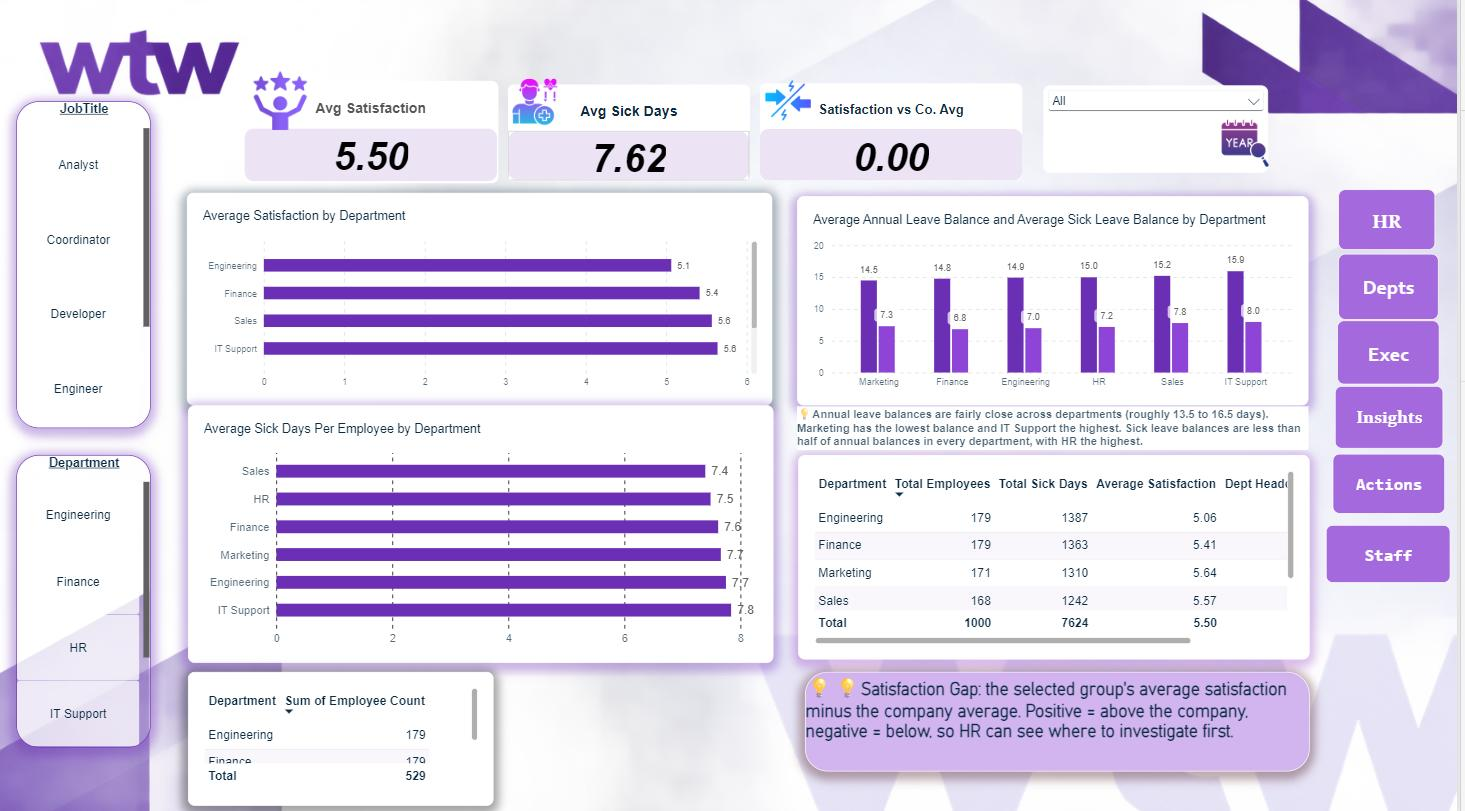

The page's visual inventory and layout, read from the dashboard file:
{"tool":"powerbi","page":{"name":"Department Analysis","canvas":[1920,1080],"ordinal":2},"visuals":[{"type":"slicer","fields":{"Values":["DimDate.Date.Variation.Date Hierarchy.Year"]},"box":[1375.3,119.5,296,114.7],"z":0,"group":"g2"},{"type":"advancedSlicerVisual","fields":{"Values":["Employees.JobTitle"]},"box":[25,140,176.7,430],"z":0},{"type":"shape","box":[1763.2,340.6,131.4,87.1],"z":0,"group":"g1"},{"type":"cardVisual","title":"\tAvg Satisfaction","fields":{"Data":["Satisfaction.Average Satisfaction"]},"box":[323.3,113.6,335.3,134.3],"z":1000,"group":"g2"},{"type":"shape","box":[1759.7,514.1,142.7,82],"z":1000,"group":"g1"},{"type":"advancedSlicerVisual","fields":{"Values":["Employees.Department"]},"box":[25.7,604.3,176.7,385],"z":1000},{"type":"cardVisual","title":"Avg Sick Days","fields":{"Data":["SickLeaves.Average Sick Days Per Employee"]},"box":[671,117.2,318.6,127.1],"z":2000,"group":"g2"},{"type":"shape","box":[1763.8,255.7,127.1,80],"z":2000,"group":"g1"},{"type":"barChart","fields":{"Category":["Employees.Department"],"Y":["Satisfaction.Average Satisfaction"]},"box":[250,260,770,280],"z":2000},{"type":"cardVisual","title":"\tSatisfaction vs Co. Avg","fields":{"Data":["Employees.Satisfaction vs Company Avg"]},"box":[1001.9,116.5,345.5,128.6],"z":3000,"group":"g2"},{"type":"shape","box":[1762.4,428.6,134.3,84.3],"z":3000,"group":"g1"},{"type":"textbox","box":[1062.9,890,663.5,130.6],"z":3000},{"type":"image","box":[954,85,172,108],"z":4000,"group":"g2"},{"type":"barChart","fields":{"Category":["Employees.Department"],"Y":["SickLeaves.Average Sick Days Per Employee"]},"box":[251.4,540,770,338.8],"z":4000},{"type":"shape","box":[1756.4,603.7,147.6,79],"z":4000,"group":"g1"},{"type":"image","box":[1547.3,140.9,185.3,109.3],"z":5000,"group":"g2"},{"type":"tableEx","fields":{"Values":["Employees.Department","Employees.Total Employees","SickLeaves.Total Sick Days","Satisfaction.Average Satisfaction","Employees.Dept Headcount Rank Selected"]},"box":[1052.9,604.3,672.7,268.8],"z":5000},{"type":"shape","box":[1747.1,696.4,164,75.9],"z":5000,"group":"g1"},{"type":"lineClusteredColumnComboChart","fields":{"Category":["Employees.Department"],"Y":["Balances.Average Annual Leave Balance","Balances.Average Sick Leave Balance"]},"box":[1052.3,264.2,672.7,274.8],"z":6000},{"type":"textbox","box":[1052.3,540.6,672.7,57.7],"z":7000},{"type":"tableEx","fields":{"Values":["Top 3 Departments.Department","Sum(Top 3 Departments.Employee Count)"]},"box":[251.4,890,401.4,175.7],"z":8000},{"type":"group","id":"g1","title":"Group 1","box":[1747.1,255.7,164.3,517.1],"z":9000},{"type":"group","id":"g2","title":"Group 2","box":[323.3,85,1408.3,165],"z":10000},{"type":"image","box":[583.3,85,247.2,111.2],"z":11000},{"type":"image","box":[201.7,80,341.4,117.1],"z":12000}]}

Visuals, with their boxes in screenshot pixels (x1, y1, x2, y2), scaled from the page's 1920x1080 canvas onto the 1465x811 screenshot:
slicer - DimDate.Date.Variation.Date Hierarchy.Year: <region>1049, 90, 1275, 176</region>
advancedSlicerVisual - Employees.JobTitle: <region>19, 105, 154, 428</region>
shape: <region>1345, 256, 1446, 321</region>
"	Avg Satisfaction" cardVisual: <region>247, 85, 503, 186</region>
shape: <region>1343, 386, 1452, 448</region>
advancedSlicerVisual - Employees.Department: <region>20, 454, 154, 743</region>
"Avg Sick Days" cardVisual: <region>512, 88, 755, 183</region>
shape: <region>1346, 192, 1443, 252</region>
barChart - Employees.Department x Satisfaction.Average Satisfaction: <region>191, 195, 778, 406</region>
"	Satisfaction vs Co. Avg" cardVisual: <region>764, 87, 1028, 184</region>
shape: <region>1345, 322, 1447, 385</region>
textbox: <region>811, 668, 1317, 766</region>
image: <region>728, 64, 859, 145</region>
barChart - Employees.Department x SickLeaves.Average Sick Days Per Employee: <region>192, 406, 779, 660</region>
shape: <region>1340, 453, 1453, 513</region>
image: <region>1181, 106, 1322, 188</region>
tableEx - Employees.Department x Employees.Total Employees: <region>803, 454, 1317, 656</region>
shape: <region>1333, 523, 1458, 580</region>
lineClusteredColumnComboChart - Employees.Department x Balances.Average Annual Leave Balance: <region>803, 198, 1316, 405</region>
textbox: <region>803, 406, 1316, 449</region>
tableEx - Top 3 Departments.Department x Sum(Top 3 Departments.Employee Count): <region>192, 668, 498, 800</region>
"Group 1" group: <region>1333, 192, 1458, 580</region>
"Group 2" group: <region>247, 64, 1321, 188</region>
image: <region>445, 64, 634, 147</region>
image: <region>154, 60, 414, 148</region>
